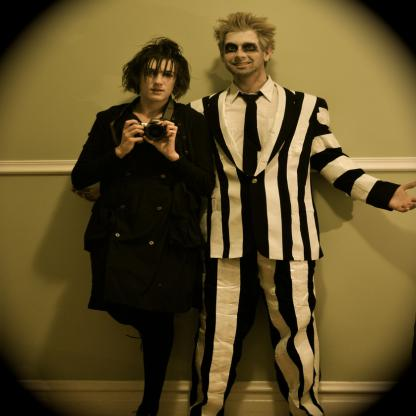Camera: (139, 120, 169, 143)
